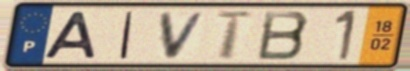1: (332, 9, 358, 63)
A: (41, 10, 100, 60)
B: (255, 9, 313, 62)
I: (117, 10, 137, 61)
T: (213, 10, 257, 61)
V: (158, 10, 210, 60)
